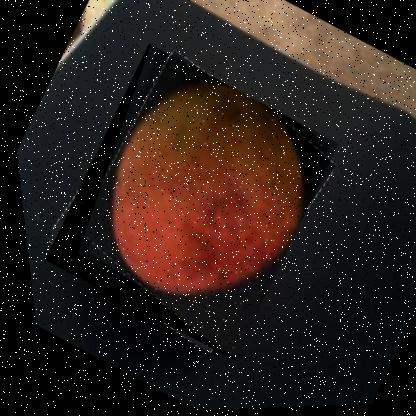mango: (19, 39, 353, 368)
